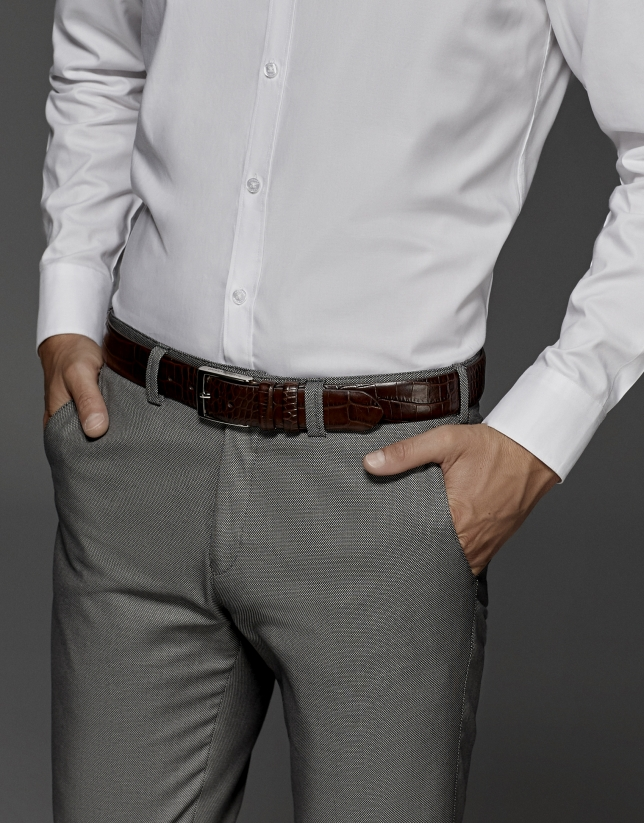F_belt: (102, 312, 491, 454)
F_dress pants: (55, 328, 491, 803)
